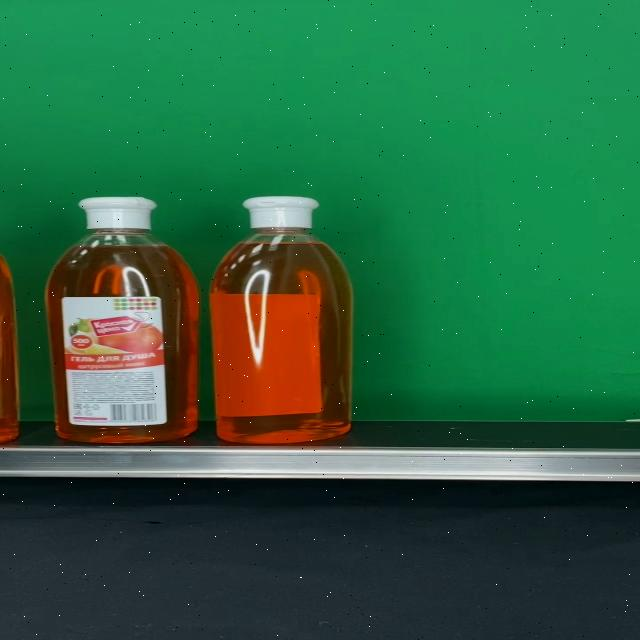Bottle: (45, 198, 199, 442), (210, 196, 353, 444)
Cap: (78, 198, 158, 230), (241, 197, 320, 229)
